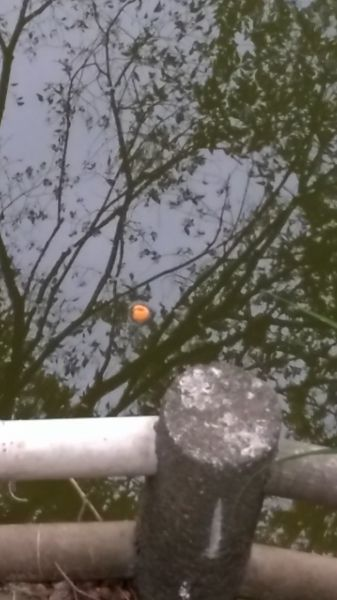eggs: (124, 297, 156, 325)
